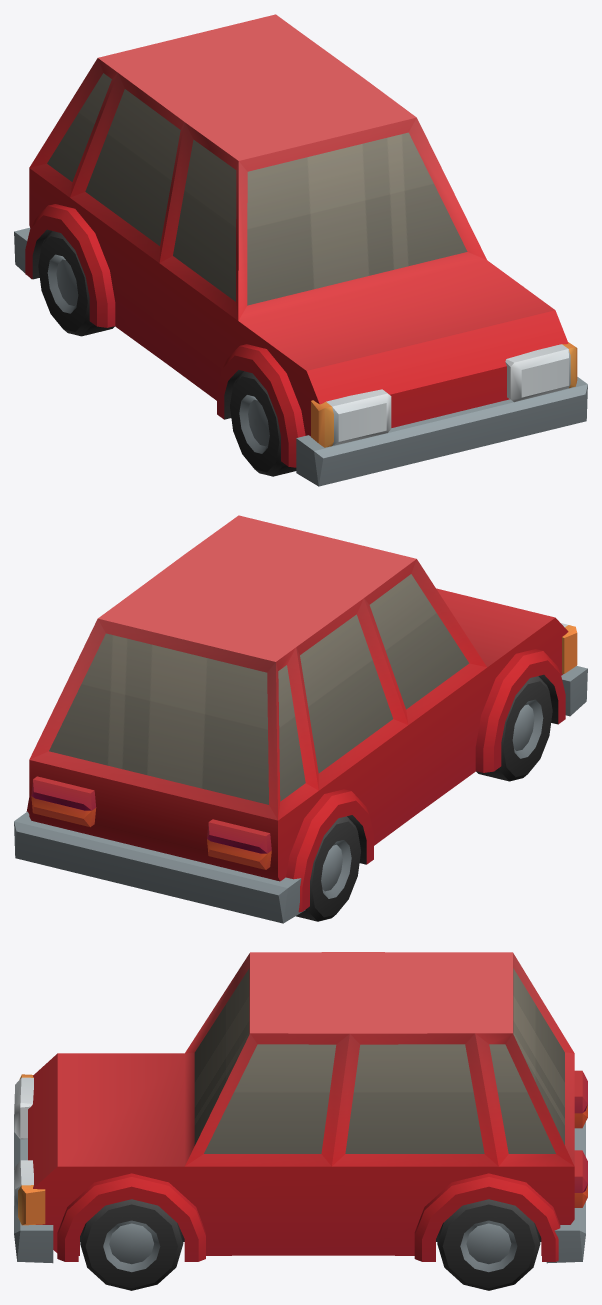
File: redCar.fbx
The picture shows the model from 3 angles, top to bottom: view 1: azimuth 30°, elevation 25°; view 2: azimuth 150°, elevation 25°; view 3: azimuth 270°, elevation 25°; orthographic projection. The views are drawn at different scales.
Parts seen in each view (by area): view 1: redCar; view 2: redCar; view 3: redCar.
Part boxes in pixels (x1=…): redCar: x1=14, y1=14, x2=587, y2=486; redCar: x1=14, y1=515, x2=587, y2=923; redCar: x1=14, y1=952, x2=587, y2=1290.
Bounding box in the file's own units: 41.9 × 36.88 × 80.61.
